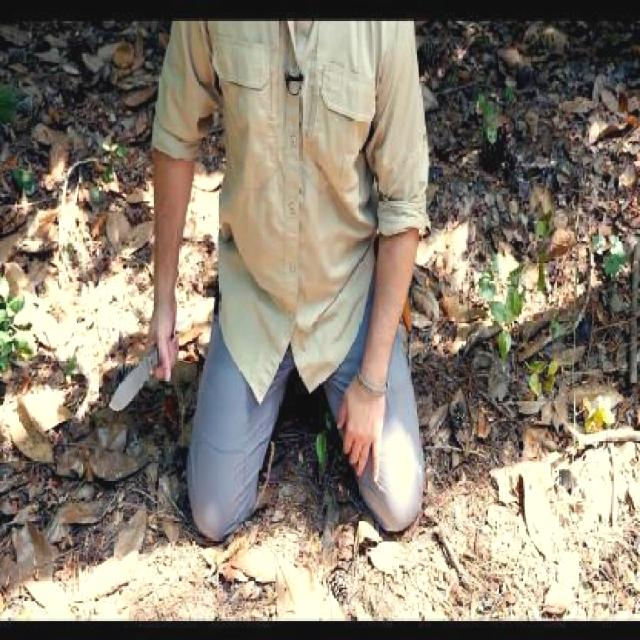knife: (100, 328, 182, 426)
